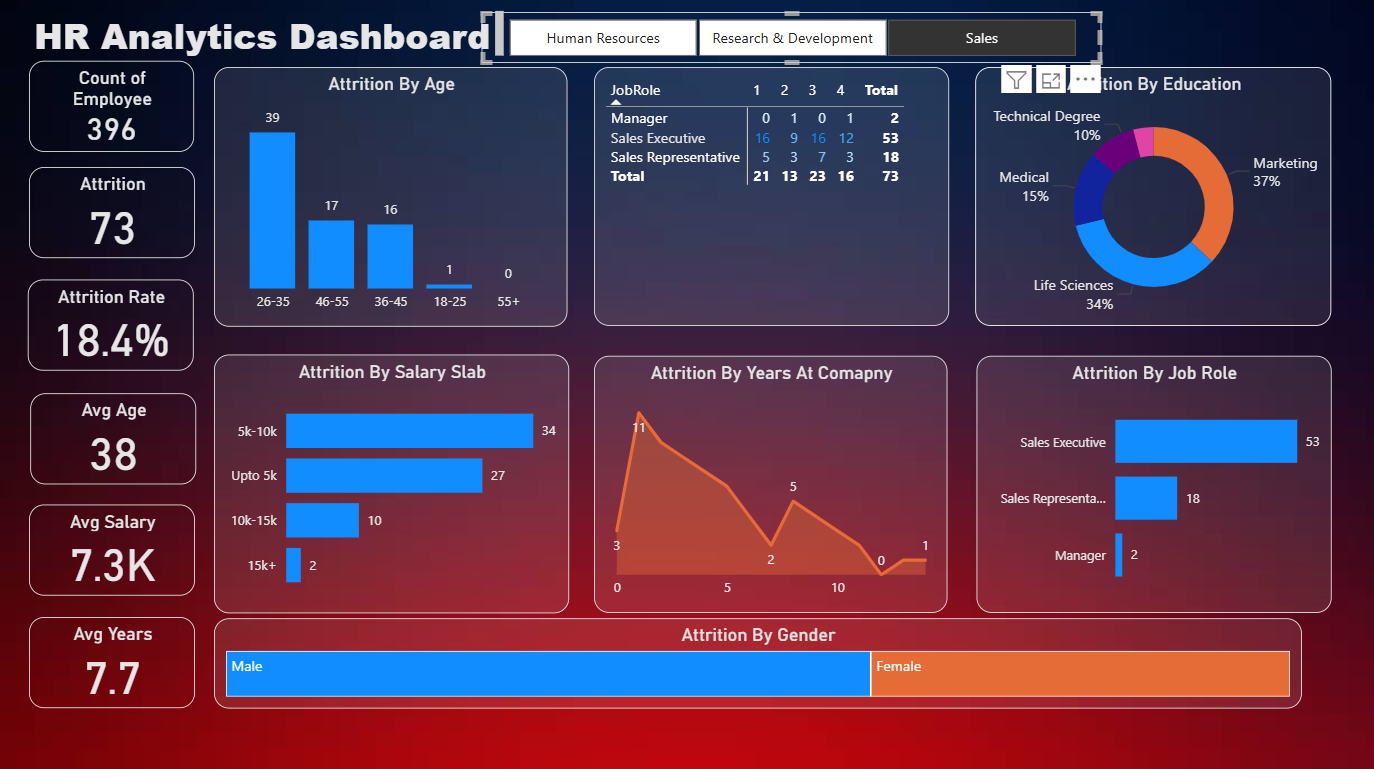

The page's visual inventory and layout, read from the dashboard file:
{"tool":"powerbi","page":{"name":"Page 1","canvas":[1280,720],"ordinal":0},"visuals":[{"type":"card","title":"Attrition","fields":{"Values":["Sum(HR_Analytics.AttritionCount)"]},"box":[27.9,158.1,154.7,84.9],"z":0},{"type":"card","title":"Attrition Rate","fields":{"Values":["HR_Analytics.AttritionRate"]},"box":[26.7,262.8,154.7,84.9],"z":1000},{"type":"card","title":"Avg Age","fields":{"Values":["Avg(HR_Analytics.Age)"]},"box":[29.1,368.6,154.7,84.9],"z":2000},{"type":"card","title":"Avg Salary","fields":{"Values":["Avg(HR_Analytics.MonthlyIncome)"]},"box":[27.9,472.1,154.7,84.9],"z":3000},{"type":"card","title":"Avg Years","fields":{"Values":["Avg(HR_Analytics.YearsAtCompany)"]},"box":[27.9,576.7,154.7,84.9],"z":4000},{"type":"donutChart","title":"Attrition By Education","fields":{"Category":["HR_Analytics.EducationField"],"Y":["Sum(HR_Analytics.AttritionCount)"]},"box":[908.1,65.1,331.4,240.7],"z":5000},{"type":"columnChart","title":"Attrition By Age","fields":{"Category":["HR_Analytics.AgeGroup"],"Y":["Sum(HR_Analytics.AttritionCount)"]},"box":[200,65.1,329.1,241.9],"z":6000},{"type":"pivotTable","fields":{"Rows":["HR_Analytics.JobRole"],"Columns":["HR_Analytics.JobSatisfaction"],"Values":["Sum(HR_Analytics.AttritionCount)"]},"box":[553.5,65.1,330.2,240.7],"z":7000},{"type":"barChart","title":"Attrition By Salary Slab","fields":{"Category":["HR_Analytics.SalarySlab"],"Y":["Sum(HR_Analytics.AttritionCount)"]},"box":[200,332.6,330.2,240.7],"z":8000},{"type":"barChart","title":"Attrition By Job Role","fields":{"Category":["HR_Analytics.JobRole"],"Y":["Sum(HR_Analytics.AttritionCount)"]},"box":[909.3,333.7,330.2,239.5],"z":9000},{"type":"areaChart","title":"Attrition By Years At Comapny","fields":{"Category":["HR_Analytics.YearsAtCompany"],"Y":["Sum(HR_Analytics.AttritionCount)"]},"box":[553.5,333.7,329.1,239.5],"z":10000},{"type":"treemap","title":"Attrition By Gender","fields":{"Group":["HR_Analytics.Gender"],"Values":["Sum(HR_Analytics.AttritionCount)"]},"box":[200,577.9,1011.6,83.7],"z":11000},{"type":"slicer","fields":{"Values":["HR_Analytics.Department"]},"box":[448.8,14,576.7,47.7],"z":12000},{"type":"card","title":"Count of Employee","fields":{"Values":["CountNonNull(HR_Analytics.EmpID)"]},"box":[27.9,59.3,153.5,84.9],"z":13000},{"type":"textbox","box":[28.3,8.3,446.7,53.3],"z":14000}]}

Visuals, with their boxes in screenshot pixels (x1, y1, x2, y2), scaled from the page's 1280x720 canvas onto the 1374x769 screenshot:
"Attrition" card: (30, 169, 196, 260)
"Attrition Rate" card: (29, 281, 195, 371)
"Avg Age" card: (31, 394, 197, 484)
"Avg Salary" card: (30, 504, 196, 595)
"Avg Years" card: (30, 616, 196, 707)
"Attrition By Education" donutChart: (975, 70, 1331, 327)
"Attrition By Age" columnChart: (215, 70, 568, 328)
pivotTable - HR_Analytics.JobRole x HR_Analytics.JobSatisfaction: (594, 70, 949, 327)
"Attrition By Salary Slab" barChart: (215, 355, 569, 612)
"Attrition By Job Role" barChart: (976, 356, 1331, 612)
"Attrition By Years At Comapny" areaChart: (594, 356, 947, 612)
"Attrition By Gender" treemap: (215, 617, 1301, 707)
slicer - HR_Analytics.Department: (482, 15, 1101, 66)
"Count of Employee" card: (30, 63, 195, 154)
textbox: (30, 9, 510, 66)
